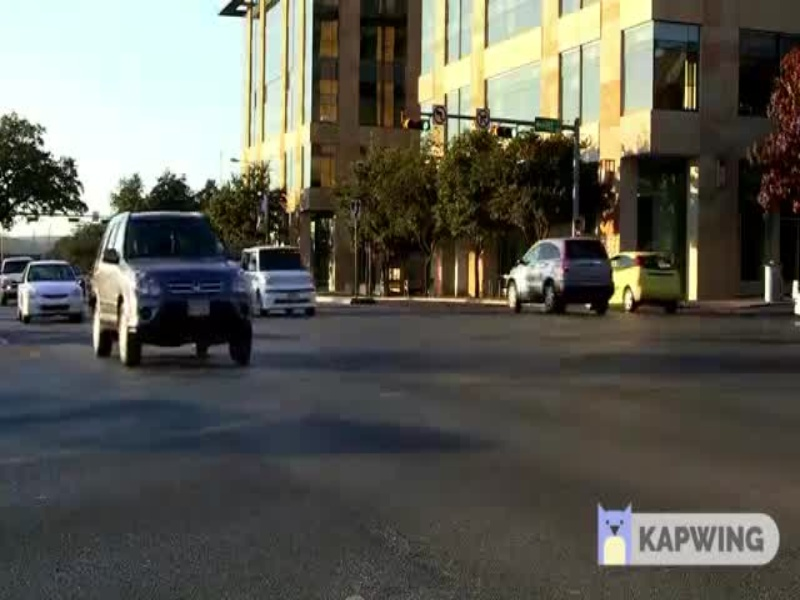car: (12, 254, 93, 337)
suv: (72, 208, 256, 376), (490, 233, 610, 320), (236, 246, 335, 325)
